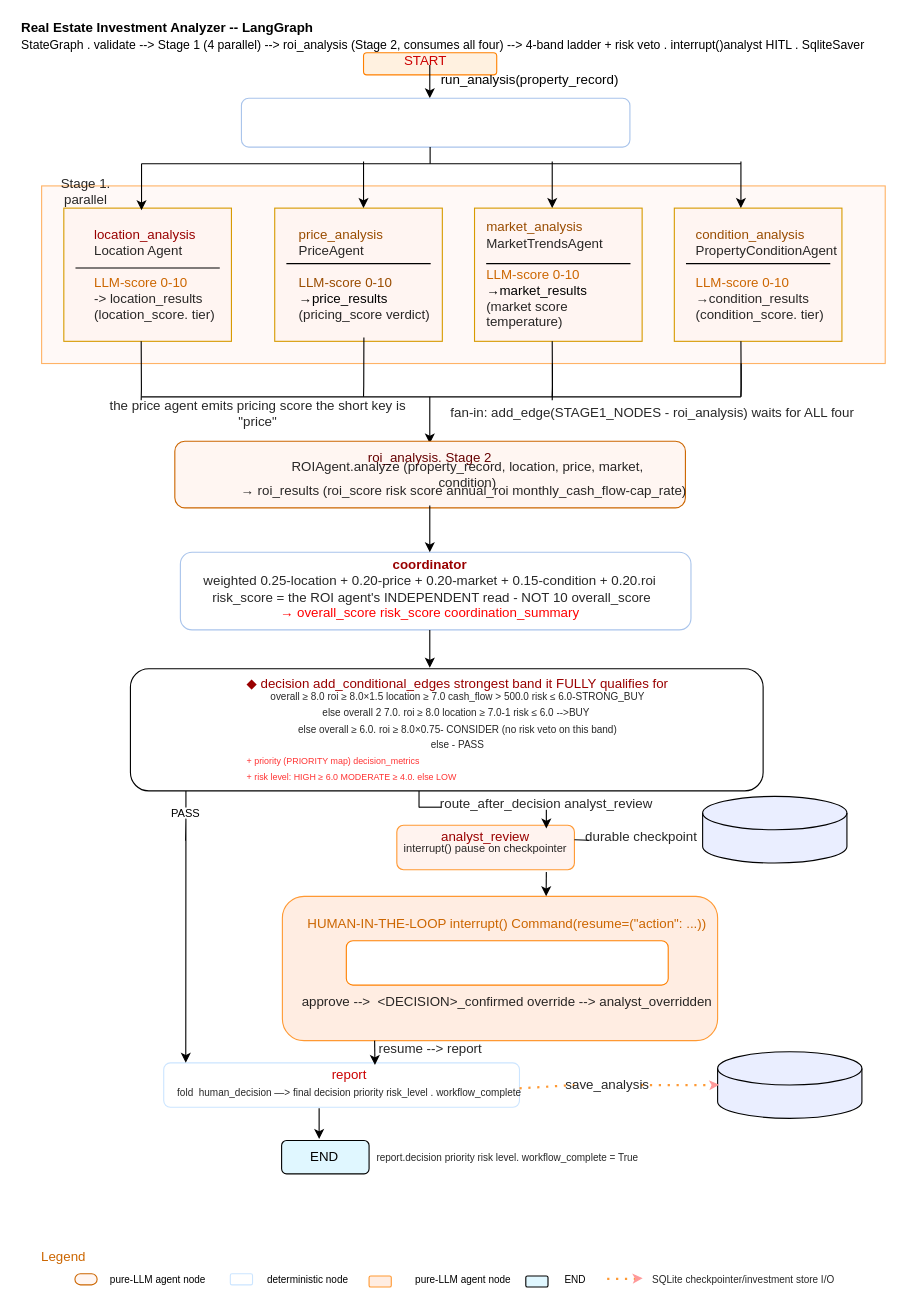
Image size: 915x1314. Some labels were removed from this diagram. Each missing label, with the centre of its shape:
Analyst decision approve/ override human_decision: [506,962]
Investment store investments.db: [789,1084]
SqliteSaver checkpoints.db: [774,829]
validate REQUIRED_FIELDS on property PASS (file it, skip) if incomplete: [435,122]
